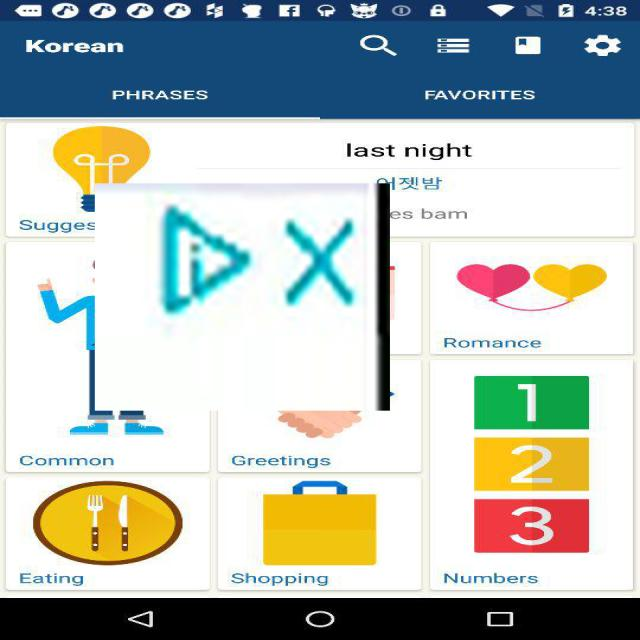sneaking: (95, 183, 390, 411)
